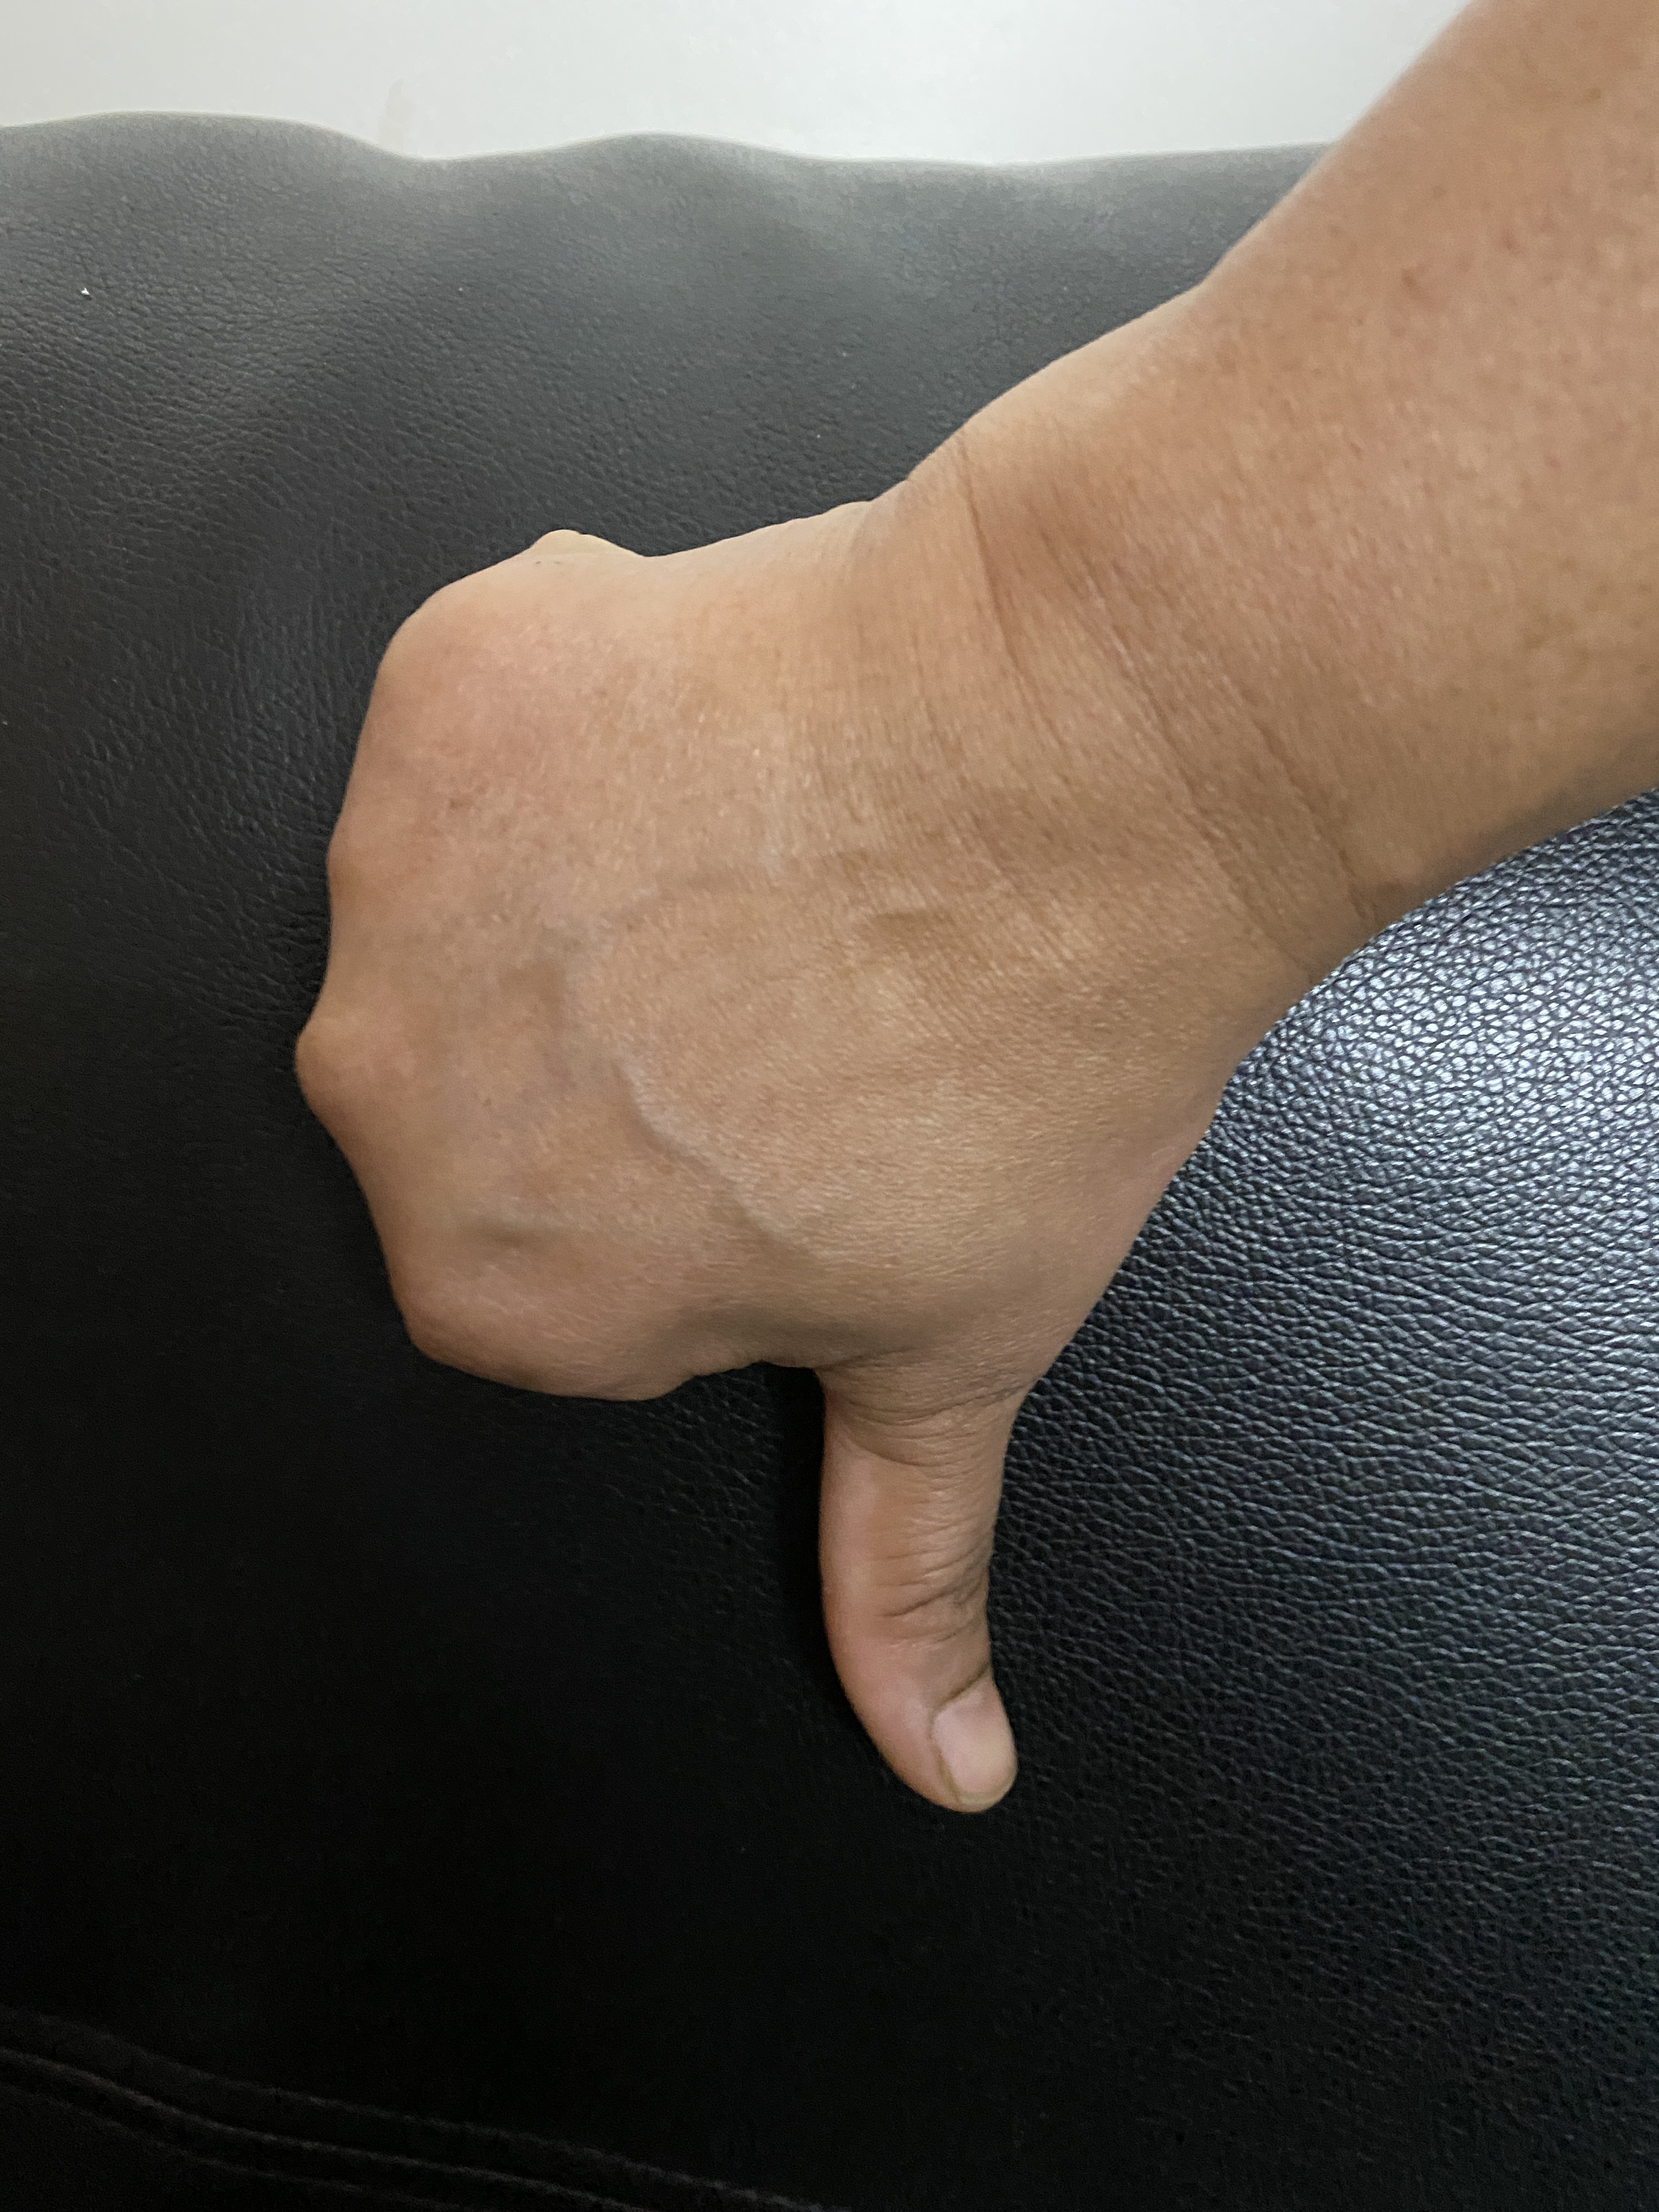down: (117, 7, 1659, 1810)
